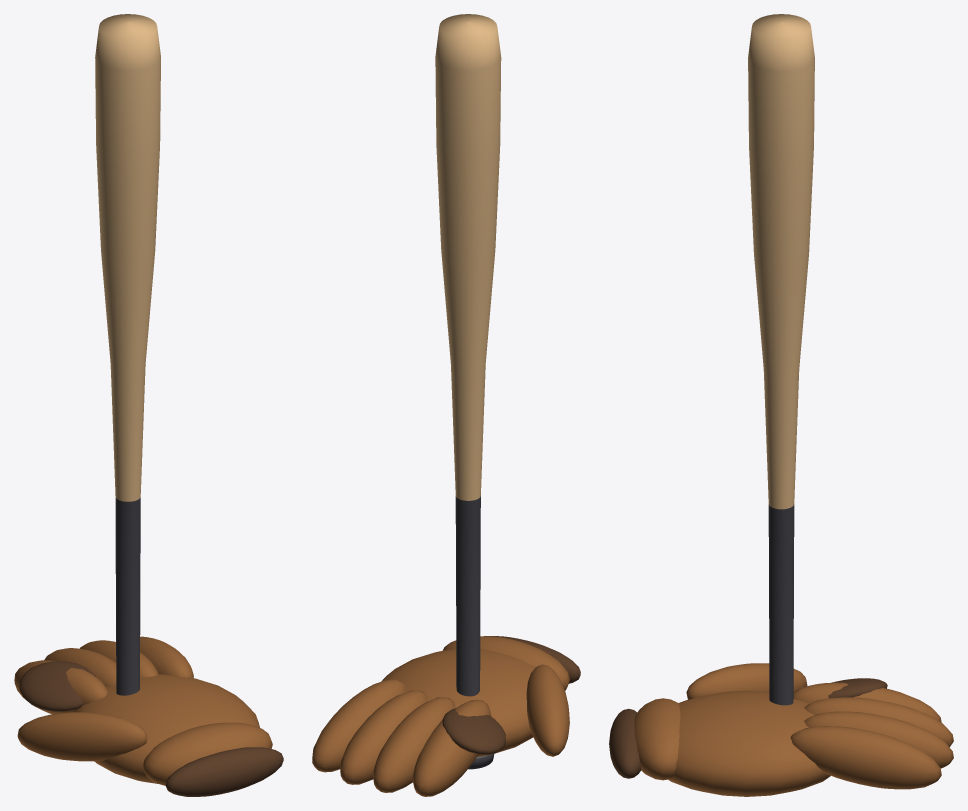
The model's file is Keepsake_Baseball.glb.
3 views of the same model, side by side, from view 1: azimuth 30°, elevation 25°; view 2: azimuth 150°, elevation 25°; view 3: azimuth 270°, elevation 25° (orthographic).
Visible parts, largest first — view 1: Baseball bat, Baseball glove; view 2: Baseball bat, Baseball glove; view 3: Baseball glove, Baseball bat.
Part boxes in pixels (box(x1,y1,x2,y2)): Baseball bat: box(95, 14, 160, 695); Baseball glove: box(14, 636, 283, 796); Baseball bat: box(435, 14, 501, 769); Baseball glove: box(312, 636, 580, 796); Baseball glove: box(609, 663, 953, 796); Baseball bat: box(748, 14, 814, 705).
Size of the model in its own units: 0.2409 by 0.84 by 0.3502.
